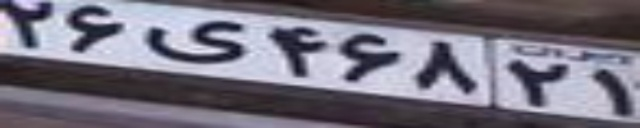1: (585, 68, 637, 116)
2: (503, 56, 569, 106), (0, 0, 58, 48)
4: (263, 25, 327, 78)
6: (333, 30, 400, 84), (62, 4, 126, 54)
8: (412, 42, 481, 93)
ye: (143, 14, 245, 65)
